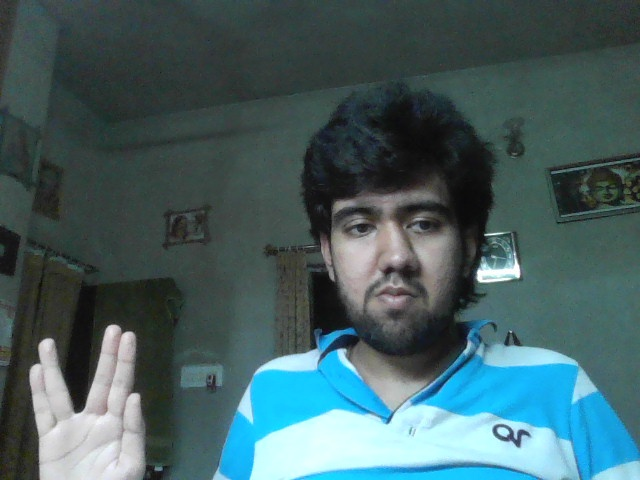LiveLong: (29, 324, 146, 480)
